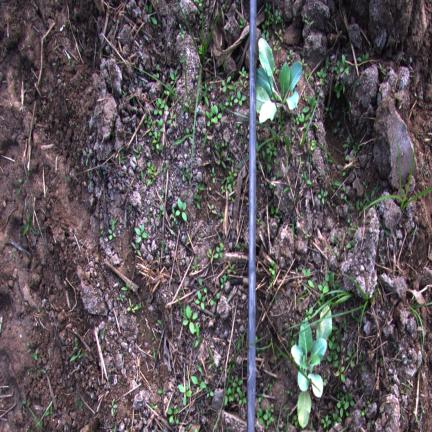crop: (291, 305, 332, 427), (256, 40, 302, 122)
